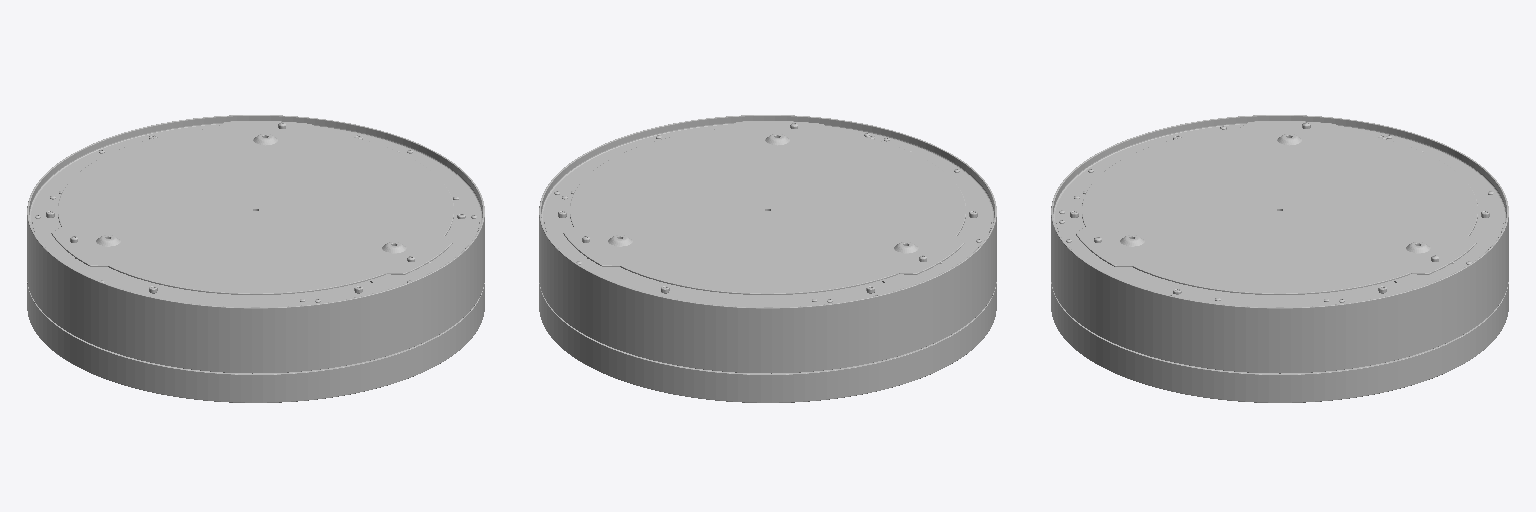
File: house_lamp.obj
The picture shows the model from 3 angles: view 1: azimuth 30°, elevation 25°; view 2: azimuth 150°, elevation 25°; view 3: azimuth 270°, elevation 25°; orthographic projection.
Parts seen in each view (by area): view 1: AM152_002_08, AM152_002_07, AM152_002_09; view 2: AM152_002_08, AM152_002_07, AM152_002_09; view 3: AM152_002_08, AM152_002_07, AM152_002_09.
Part boxes in pixels (bbox=[...]): AM152_002_08: bbox=[27, 115, 484, 402]; AM152_002_07: bbox=[103, 267, 370, 298]; AM152_002_09: bbox=[35, 122, 476, 302]; AM152_002_08: bbox=[539, 115, 996, 402]; AM152_002_07: bbox=[615, 267, 882, 298]; AM152_002_09: bbox=[554, 123, 981, 304]; AM152_002_08: bbox=[1051, 115, 1508, 402]; AM152_002_07: bbox=[1127, 267, 1394, 298]; AM152_002_09: bbox=[1059, 122, 1493, 304].
Bounding box in the file's own units: 43.68 × 10.65 × 43.68.